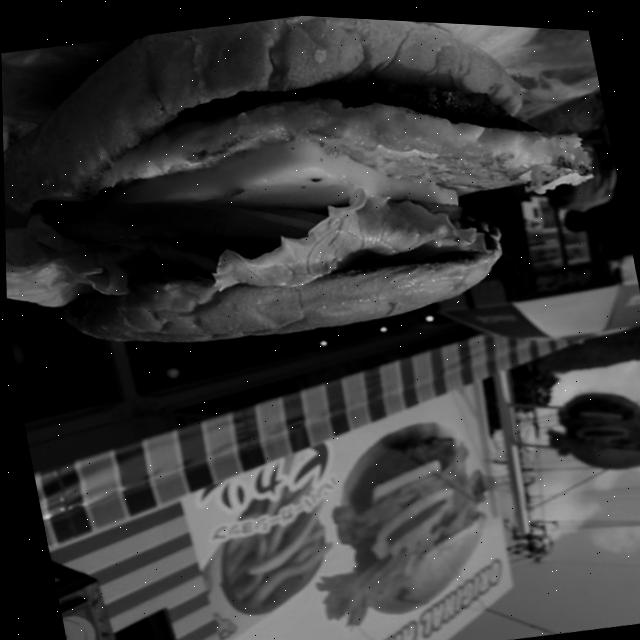汉堡快餐: (0, 0, 595, 403)
